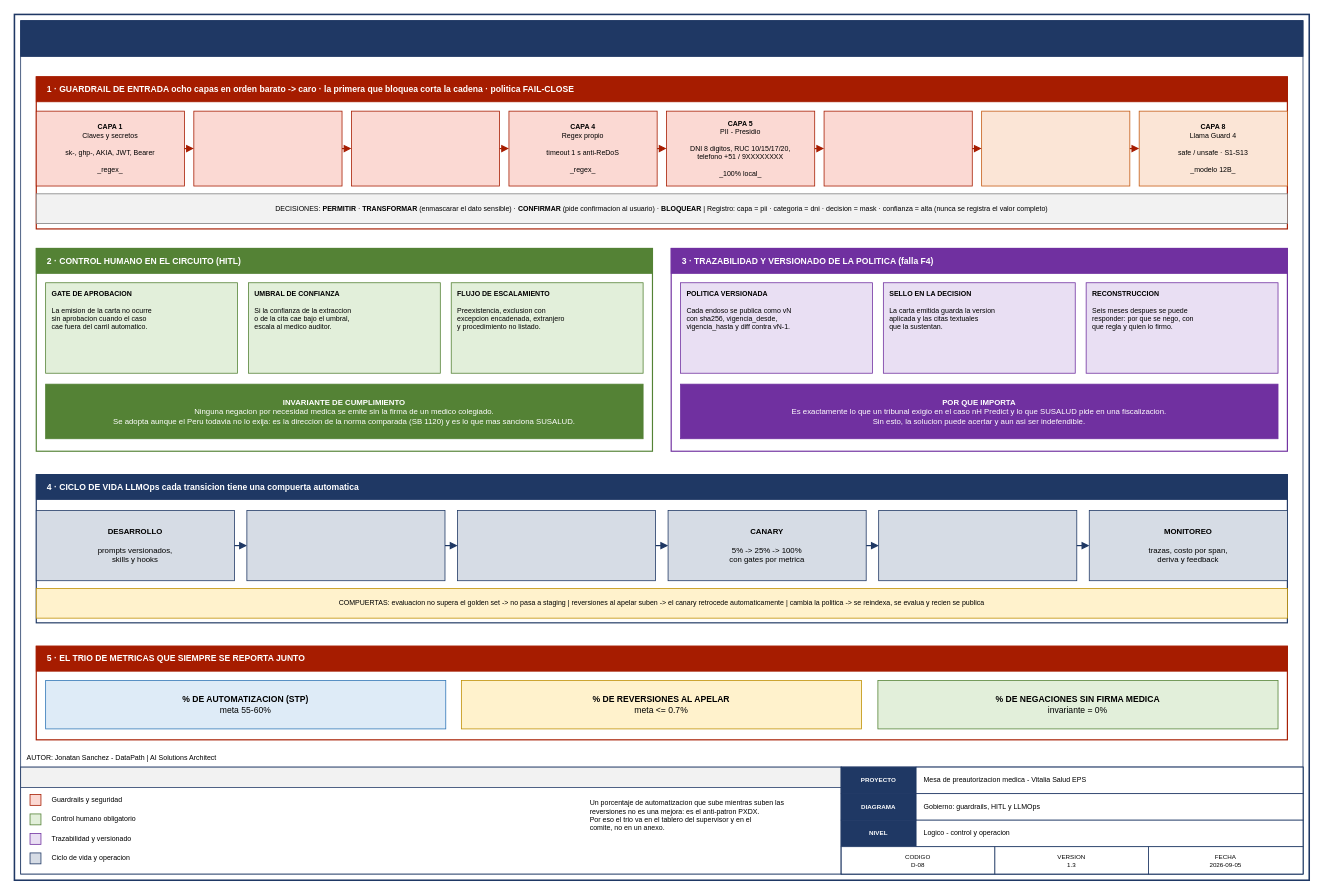
The diagram is 1323 pixels wide and 894 high, and some of its shapes have lost their labels. Each missing label, with the centre of its shape:
"CAPA 2 Inyeccion de prompt 60+ patrones ES / EN _regex_" goes at point (267, 148).
"CAPA 3 Toxicidad lexico y patrones _regex_" goes at point (425, 148).
"CAPA 6 URL y phishing 60+ TLDs, 20+ acortadores _listas_" goes at point (897, 148).
"CAPA 7 Prompt Guard 2 MALICIOUS / BENIGN _modelo 86M_" goes at point (1055, 148).
"EVALUACION golden set + RAGAS + Promptfoo en CI" goes at point (345, 545).
"GOBIERNO DE LA SOLUCION - GUARDRAILS, CONTROL HUMANO Y LLMOps" goes at point (661, 38).
"LEYENDA / NOTAS" goes at point (430, 776).
"PRODUCCION Cloud Run + API Gateway SLO p95 < 2 s" goes at point (977, 545).
"STAGING e2e con RAG, tools y memoria" goes at point (556, 545).
